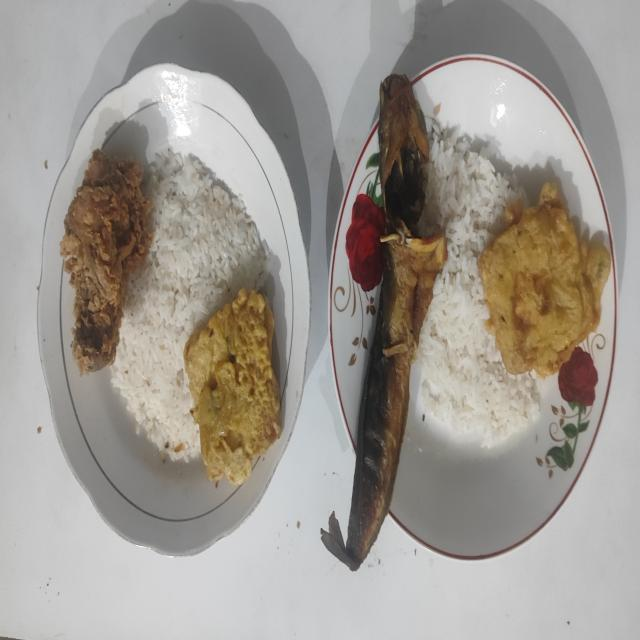nasi_putih: (112, 150, 268, 462), (417, 124, 539, 447)
